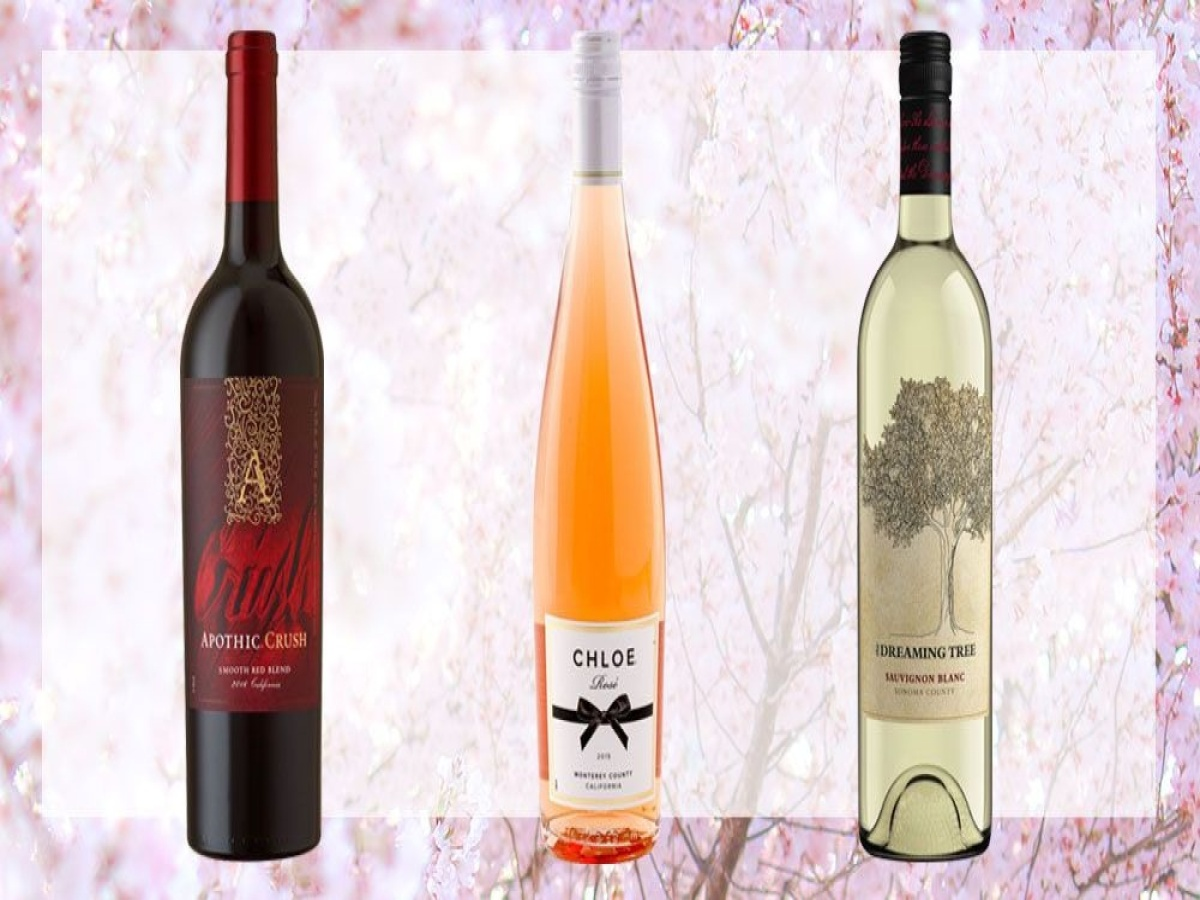wine: (185, 29, 325, 855), (535, 34, 675, 860), (855, 35, 995, 861)
